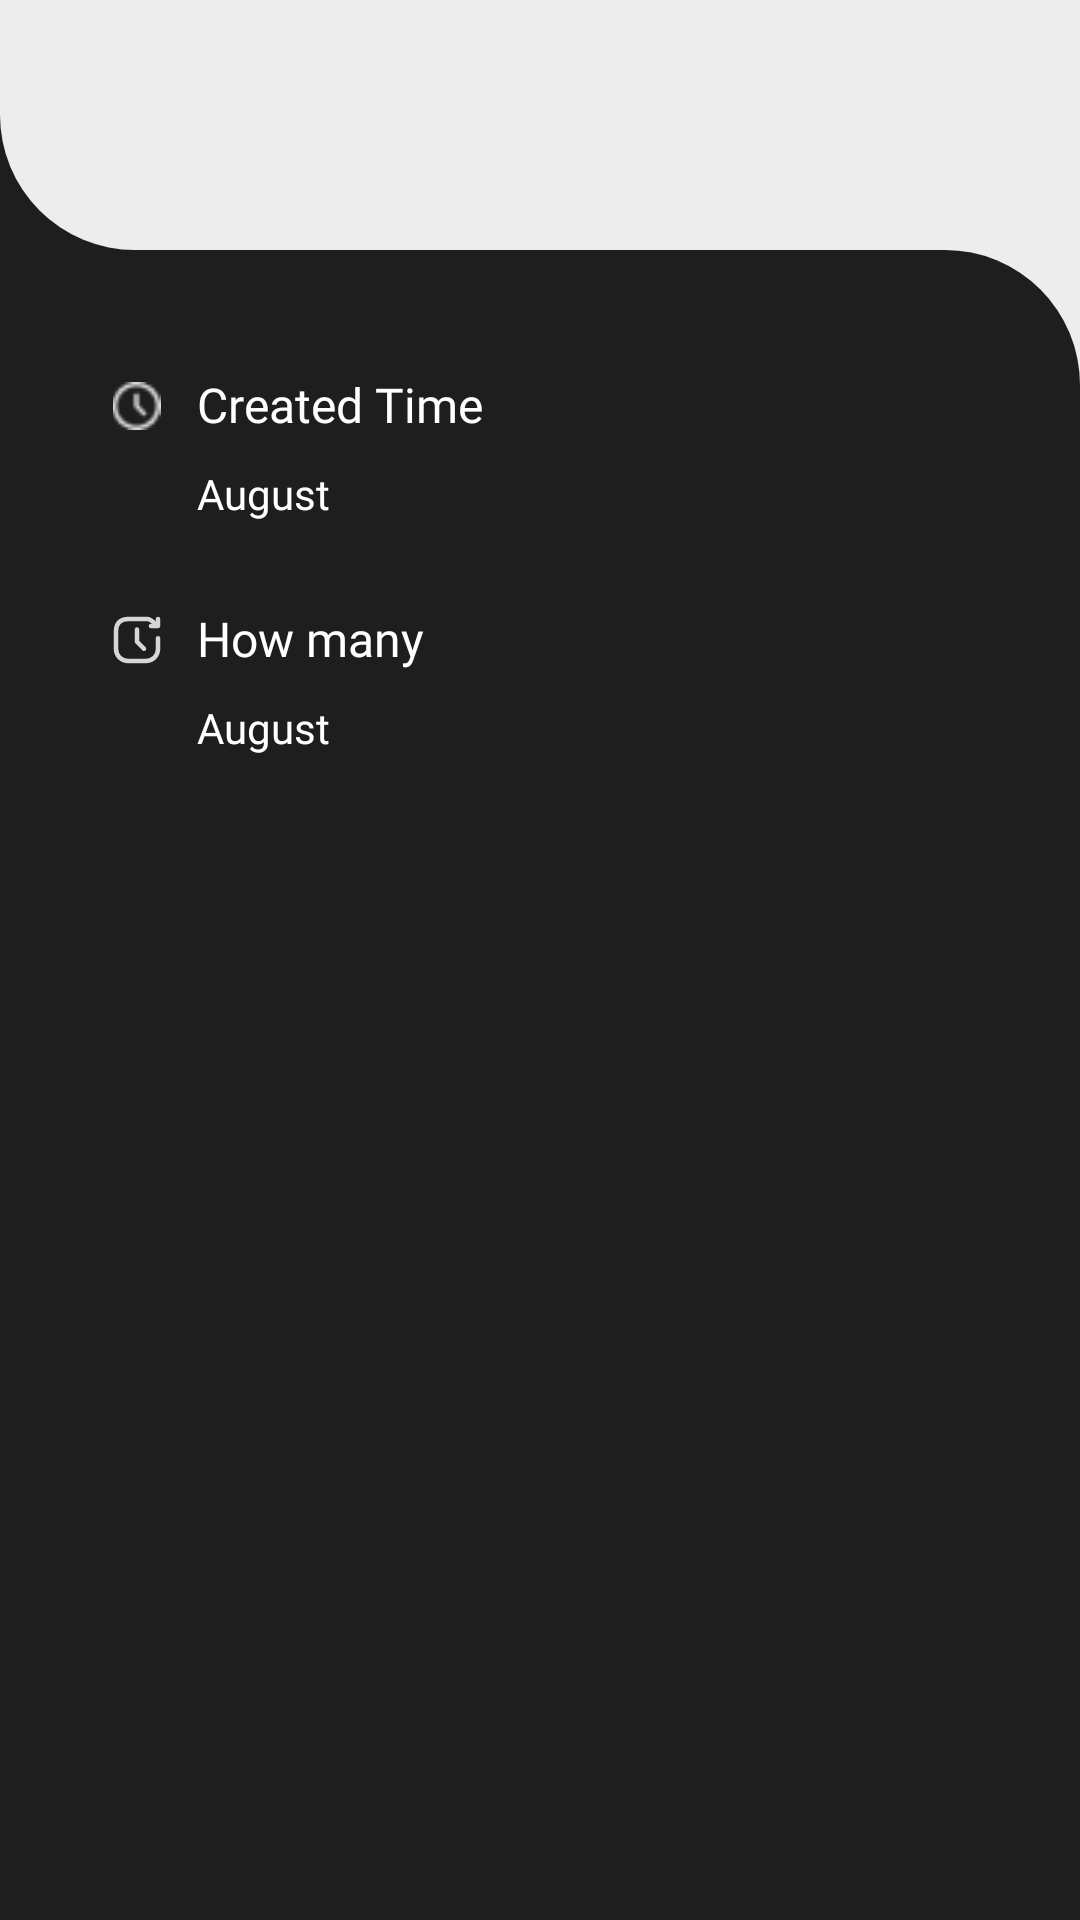

Screen size 1080×1920. Icon name, then its center in pixels as point (x, y):
sheets time: point (137, 406)
